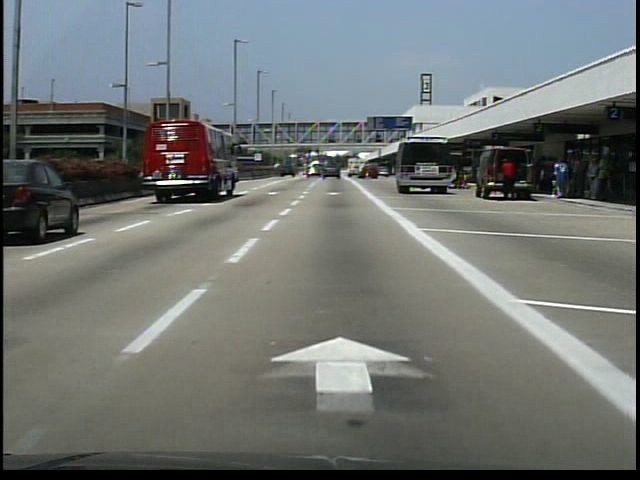person: (499, 156, 518, 207), (447, 169, 468, 194)
